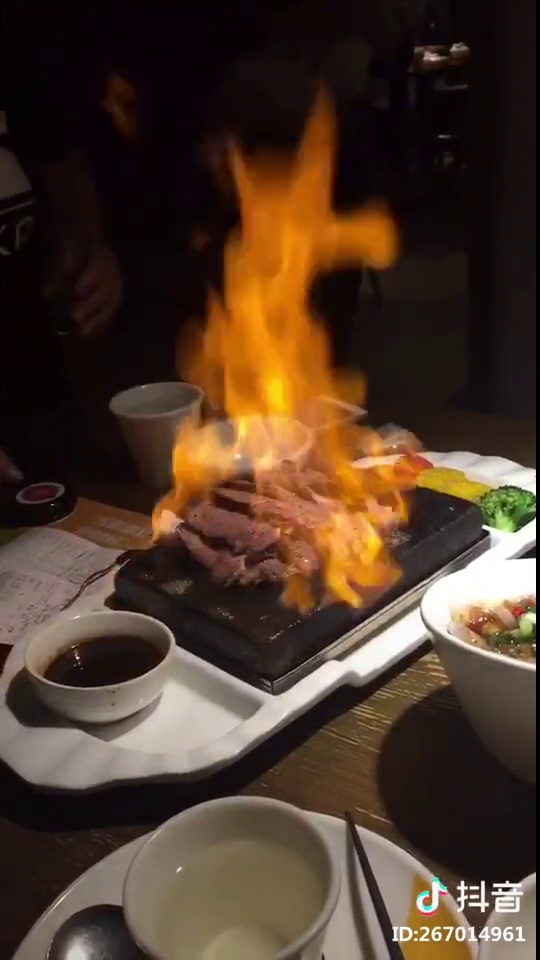fire: (179, 137, 397, 505)
